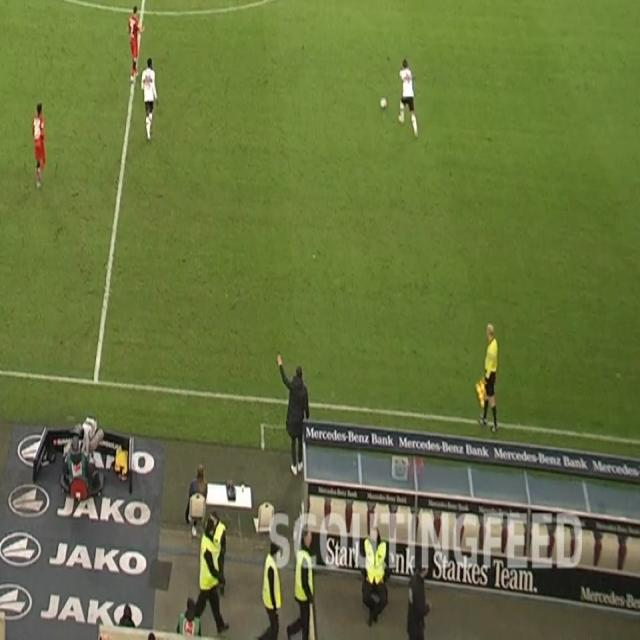ball: (379, 96, 388, 110)
